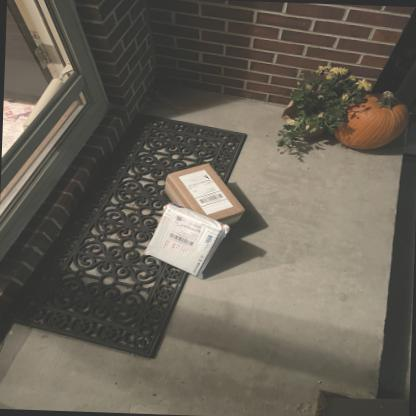box: (164, 163, 245, 226)
plastic_bag: (144, 203, 230, 280)
